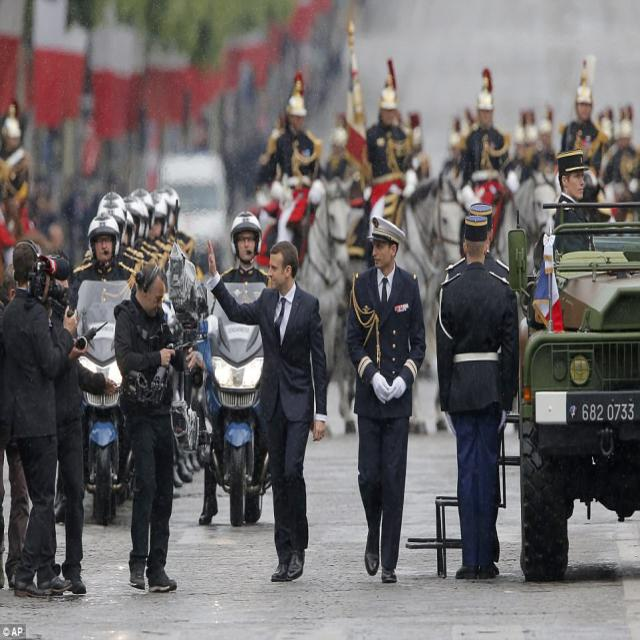body: (203, 234, 329, 584), (79, 173, 206, 501), (435, 212, 524, 582), (344, 214, 426, 587), (112, 261, 200, 595), (0, 240, 79, 600), (52, 213, 138, 526), (198, 208, 272, 526), (0, 257, 49, 593), (46, 248, 88, 595), (458, 69, 512, 263), (439, 200, 514, 282), (366, 59, 410, 176), (272, 74, 316, 184), (552, 144, 596, 254), (560, 83, 608, 179), (322, 118, 362, 216), (598, 101, 638, 194), (253, 114, 281, 245), (510, 102, 558, 173), (0, 115, 31, 208), (445, 105, 479, 154), (409, 109, 435, 172)
